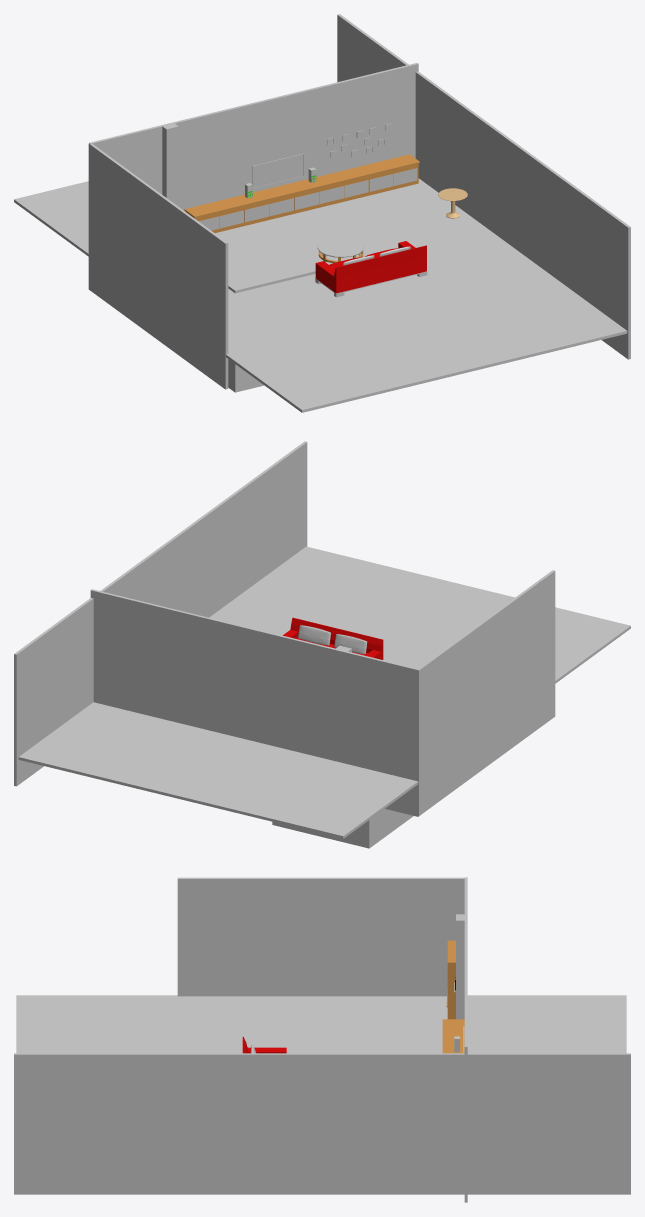
File: house_adjusted.dae
3 views of the same model, one above another, from view 1: azimuth 30°, elevation 25°; view 2: azimuth 150°, elevation 25°; view 3: azimuth 270°, elevation 25° (orthographic). The views are drawn at different scales.
Parts seen in each view (by area): view 1: Cube_003, Cube_001 (×2), Cube_002, Cube_005, Cube, Cube_014, Plane, Circle_002; view 2: Cube_001 (×2), Cube_003, Cube_002, Cube, Cube_014; view 3: Cube_001 (×2), Cube_002, Cube_003, Cube, Cube_005, Cube_041.
Boxes of the visible parts, x1,y1,x2,y2 form: Cube_003: (14, 178, 627, 412); Cube_001 (×2): (89, 14, 630, 359); Cube_002: (88, 143, 228, 389); Cube_005: (184, 154, 419, 232); Cube: (223, 226, 328, 392); Cube_014: (315, 241, 426, 293); Plane: (252, 153, 304, 188); Circle_002: (317, 237, 364, 257); Cube_001 (×2): (14, 441, 419, 816); Cube_003: (18, 546, 630, 838); Cube_002: (418, 570, 555, 816); Cube: (272, 809, 413, 848); Cube_014: (283, 617, 383, 659); Cube_001 (×2): (14, 877, 630, 1202); Cube_002: (177, 877, 464, 996); Cube_003: (16, 995, 626, 1167); Cube: (305, 1028, 424, 1053); Cube_005: (442, 1019, 464, 1053); Cube_041: (446, 940, 455, 1019).
Size of the model in its own units: 6.75 by 10.36 by 4.14.
